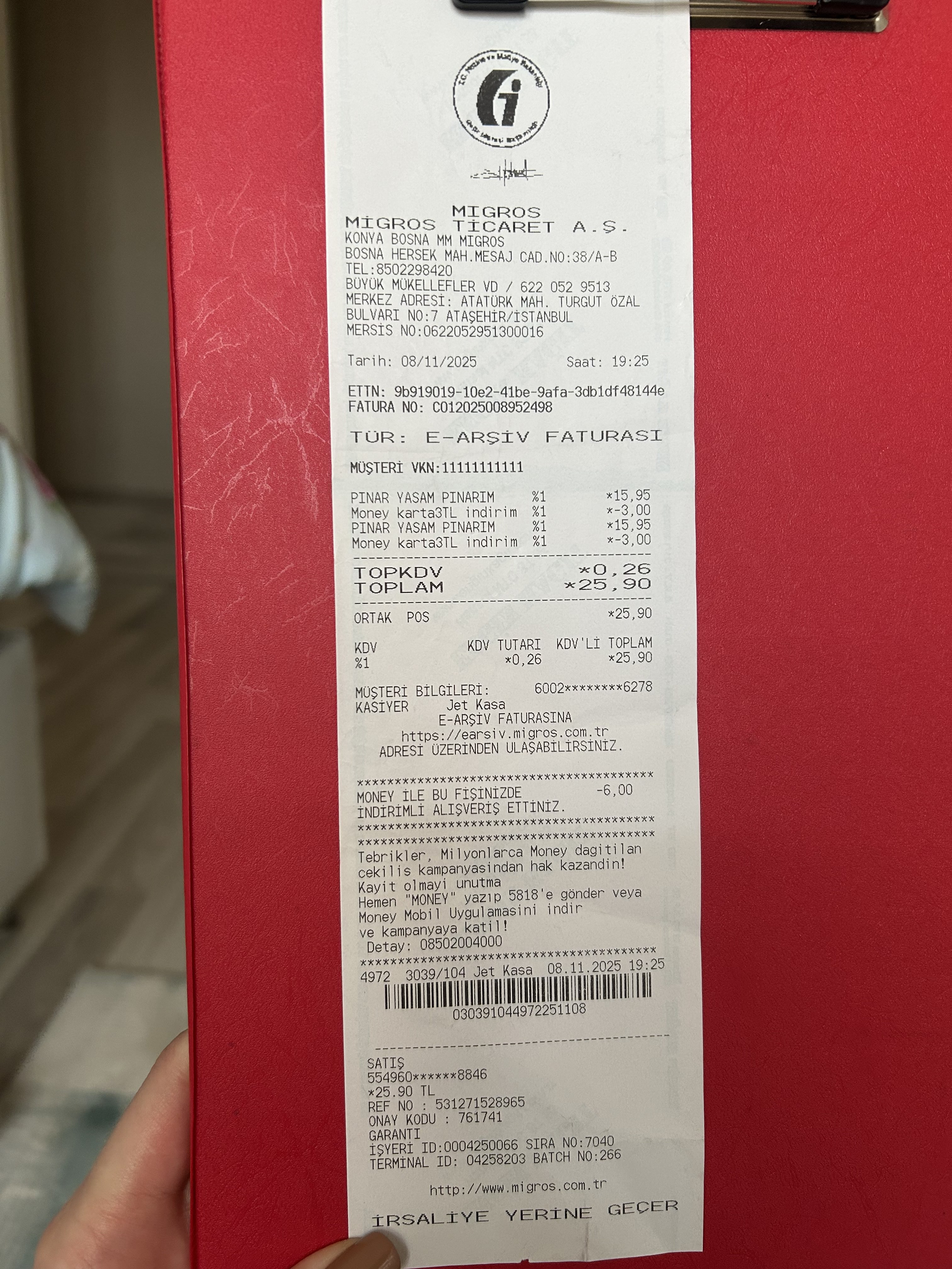date: (398, 352, 482, 372)
price: (576, 576, 655, 595)
workplace: (334, 203, 639, 265)
